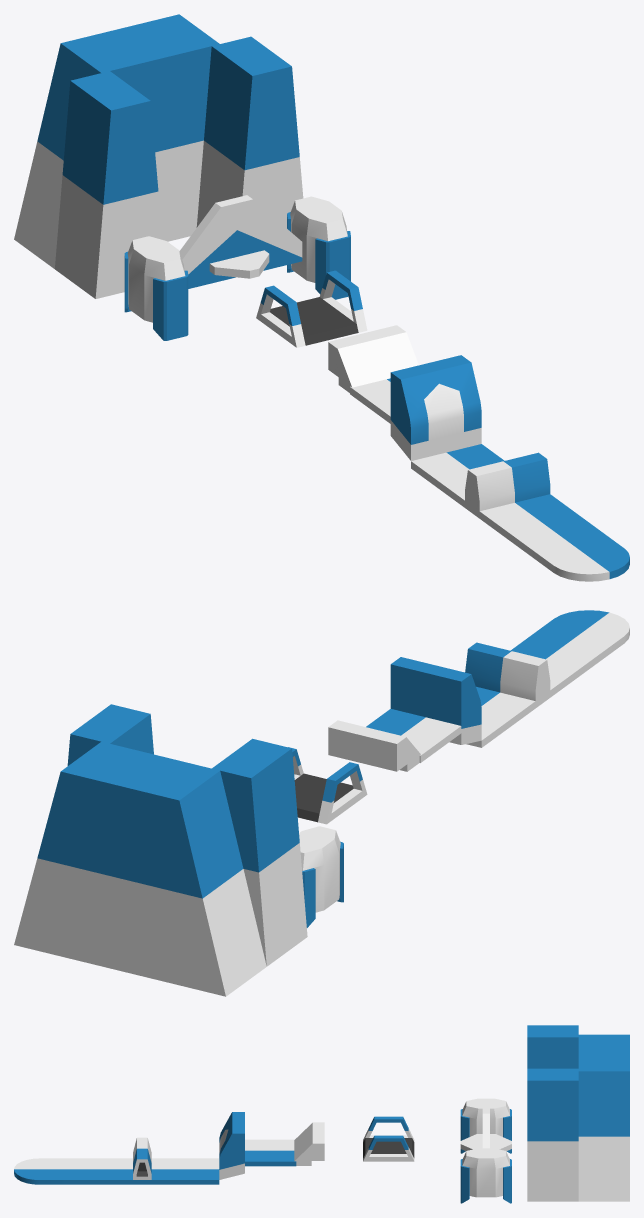
Rendered from ChrisBlueLevel1.fbx.
3 renders of one model, top to bottom at view 1: azimuth 30°, elevation 25°; view 2: azimuth 150°, elevation 25°; view 3: azimuth 270°, elevation 25°, orthographic. The views are drawn at different scales.
Visible parts, largest first — view 1: ship_cargoBody_41, ship_cargoBody_37, ship_cargoBody_40, engine_intakeArrow_11, engine_high_31, ship_cargoOpen_25, engine_high_32, plane_rudderLarge_27, engine_barrelTop_8, plane_rudderLarge_26, wind_endRound_2, wing_straight_4 (+4 smaller); view 2: ship_cargoBody_41, ship_cargoBody_37, engine_intakeArrow_11, engine_barrelTop_8, engine_high_31, ship_cargoOpen_25, ship_cargoBody_40, wind_endRound_2, wing_straight_4, wing_straight_12, wing_straight_10, wing_straight_9 (+1 smaller); view 3: ship_cargoBody_41, ship_cargoBody_40, engine_high_32, ship_cargoBody_37, ship_cargoOpen_25, engine_high_31, engine_intakeArrow_11, wing_straight_12, wing_straight_4, wing_straight_10, wind_endRound_2, wing_straight_9 (+4 smaller).
Boxes of the visible parts, left/top/right/bottom form: ship_cargoBody_41: left=14, top=14, right=219, bottom=268; ship_cargoBody_37: left=55, top=71, right=162, bottom=298; ship_cargoBody_40: left=196, top=36, right=303, bottom=228; engine_intakeArrow_11: left=390, top=355, right=481, bottom=460; engine_high_31: left=124, top=236, right=188, bottom=340; ship_cargoOpen_25: left=256, top=270, right=367, bottom=347; engine_high_32: left=287, top=196, right=350, bottom=299; plane_rudderLarge_27: left=179, top=199, right=254, bottom=288; engine_barrelTop_8: left=465, top=452, right=550, bottom=511; plane_rudderLarge_26: left=232, top=195, right=302, bottom=277; wind_endRound_2: left=533, top=533, right=629, bottom=581; wing_straight_4: left=492, top=503, right=603, bottom=557; ship_cargoBody_41: left=14, top=741, right=266, bottom=996; ship_cargoBody_37: left=212, top=738, right=307, bottom=966; engine_intakeArrow_11: left=390, top=657, right=481, bottom=744; engine_barrelTop_8: left=465, top=642, right=550, bottom=700; engine_high_31: left=299, top=826, right=343, bottom=927; ship_cargoOpen_25: left=288, top=747, right=367, bottom=824; ship_cargoBody_40: left=67, top=704, right=153, bottom=765; wind_endRound_2: left=534, top=610, right=629, bottom=657; wing_straight_4: left=510, top=634, right=603, bottom=687; wing_straight_12: left=366, top=709, right=461, bottom=762; wing_straight_10: left=466, top=700, right=522, bottom=747; wing_straight_9: left=476, top=677, right=563, bottom=717; ship_cargoBody_41: left=578, top=1034, right=629, bottom=1201; ship_cargoBody_40: left=527, top=1068, right=578, bottom=1201; engine_high_32: left=460, top=1148, right=511, bottom=1203; ship_cargoBody_37: left=527, top=1025, right=578, bottom=1068; ship_cargoOpen_25: left=363, top=1116, right=414, bottom=1161; engine_high_31: left=460, top=1098, right=511, bottom=1153; engine_intakeArrow_11: left=219, top=1112, right=244, bottom=1179; wing_straight_12: left=245, top=1139, right=296, bottom=1166; wing_straight_4: left=65, top=1158, right=116, bottom=1184; wing_straight_10: left=168, top=1158, right=219, bottom=1184; wind_endRound_2: left=14, top=1158, right=65, bottom=1184; wing_straight_9: left=116, top=1158, right=167, bottom=1184.
Bounding box in the file's own units: 30 × 26 × 120.
